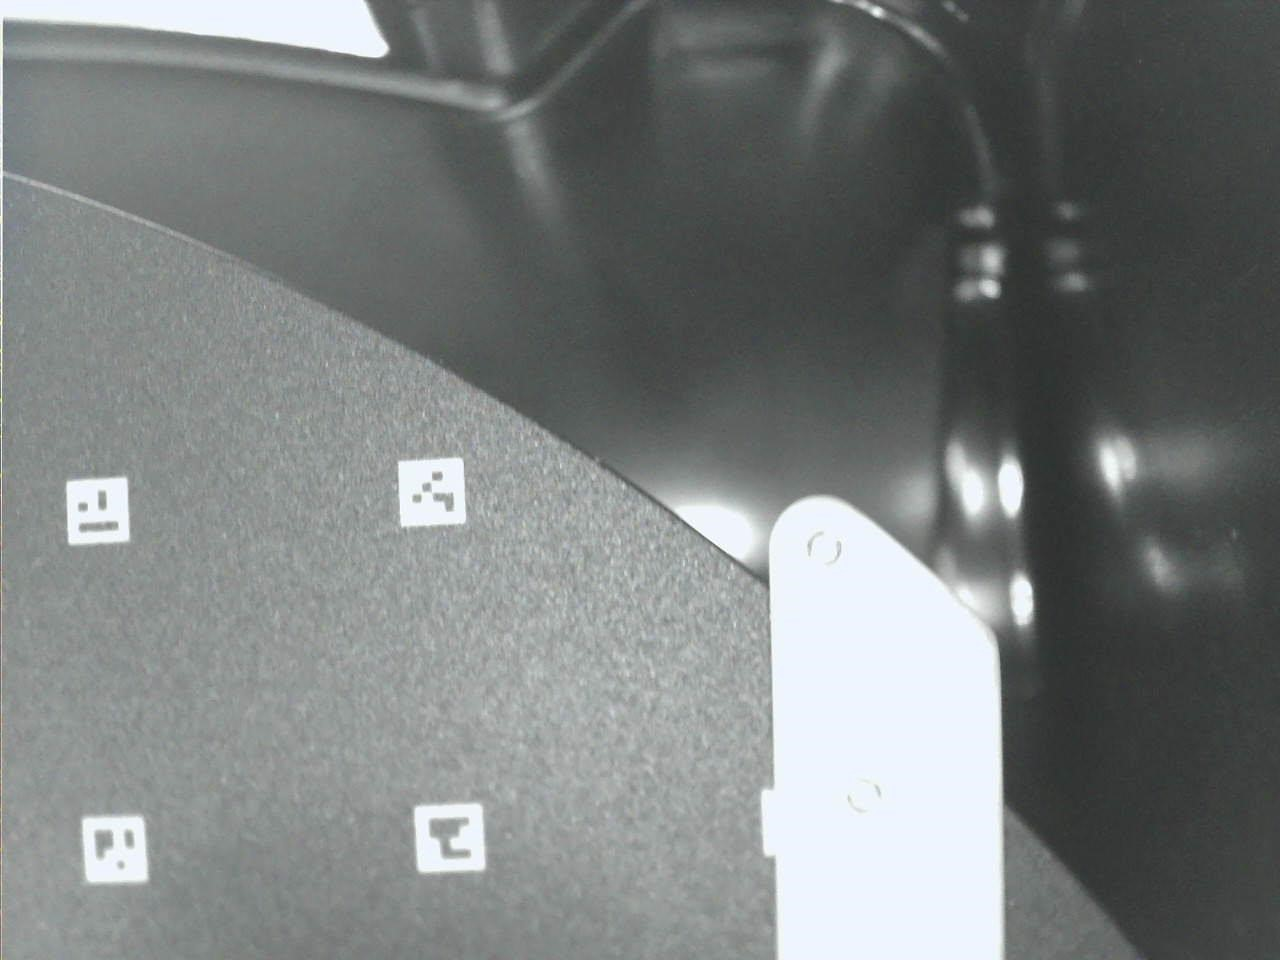tip: (751, 470, 1023, 960)
